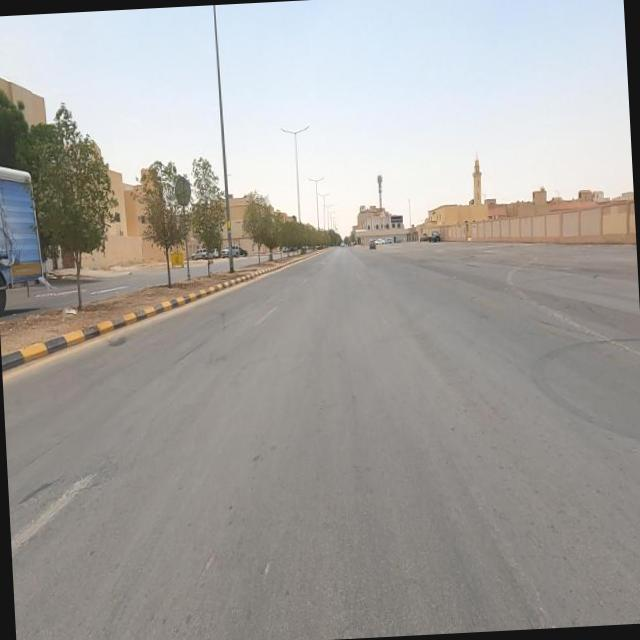debris: (33, 270, 106, 360)
